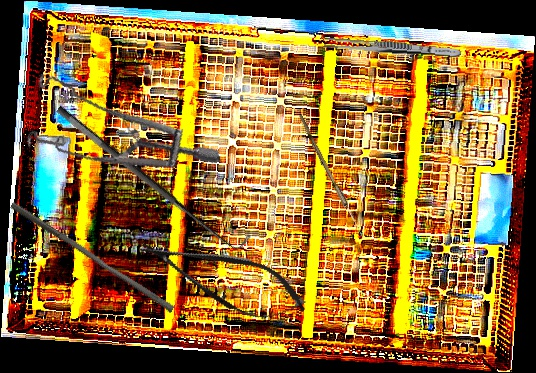Dressing Forceps: (323, 36, 462, 60)
Hook Surgical: (53, 91, 253, 261)
Micro Scissor: (129, 220, 315, 336)
Pusher: (5, 201, 179, 314)
Speculum: (13, 38, 221, 204)
Surgical Spoon: (296, 114, 367, 240)
